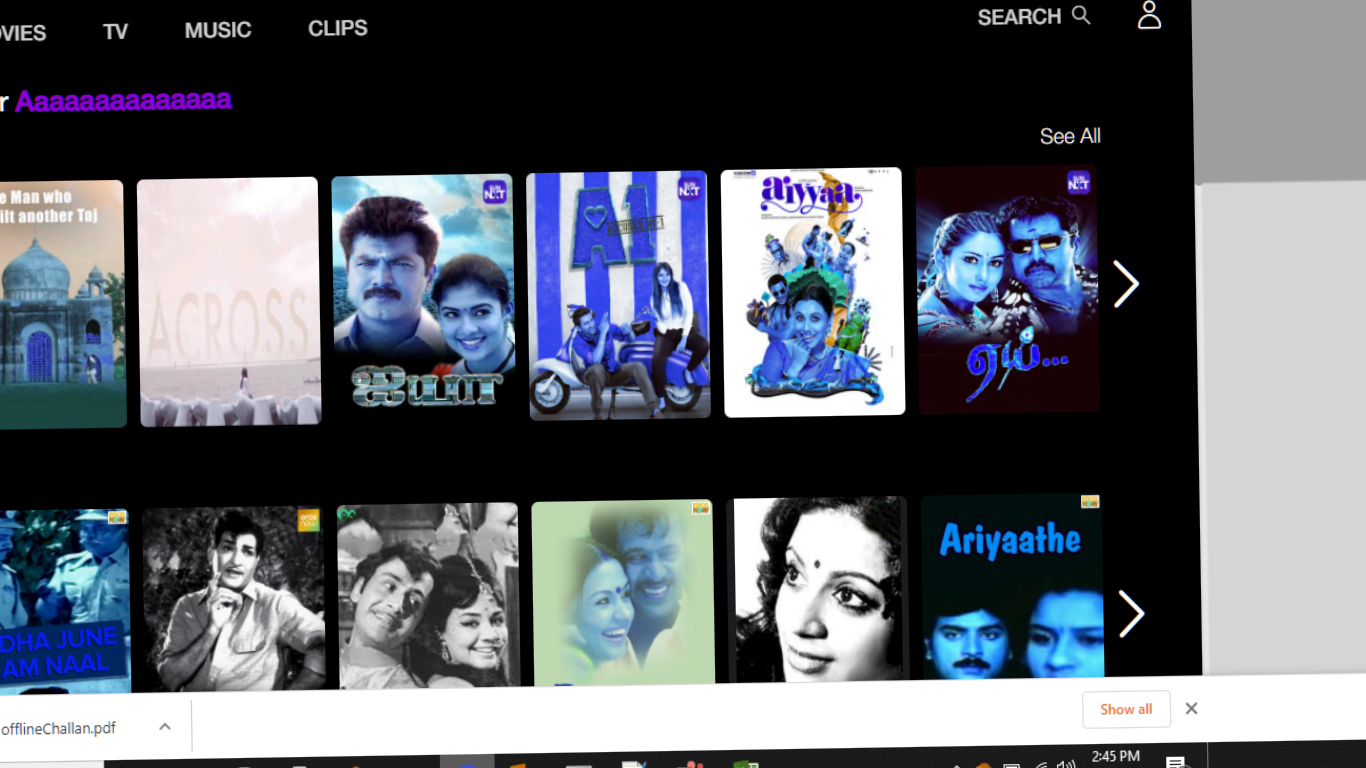noresultsfound: (1, 86, 256, 125)
profileicon: (1125, 1, 1171, 37)
searchicon: (955, 1, 1096, 46)
